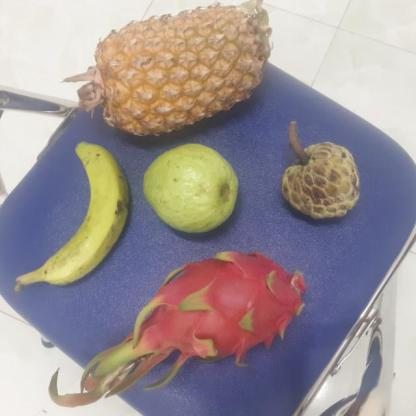annona: (282, 136, 365, 222)
banana: (31, 142, 133, 288)
guava: (143, 145, 242, 232)
pineapple: (97, 3, 268, 137)
pitaya: (138, 249, 320, 370)
